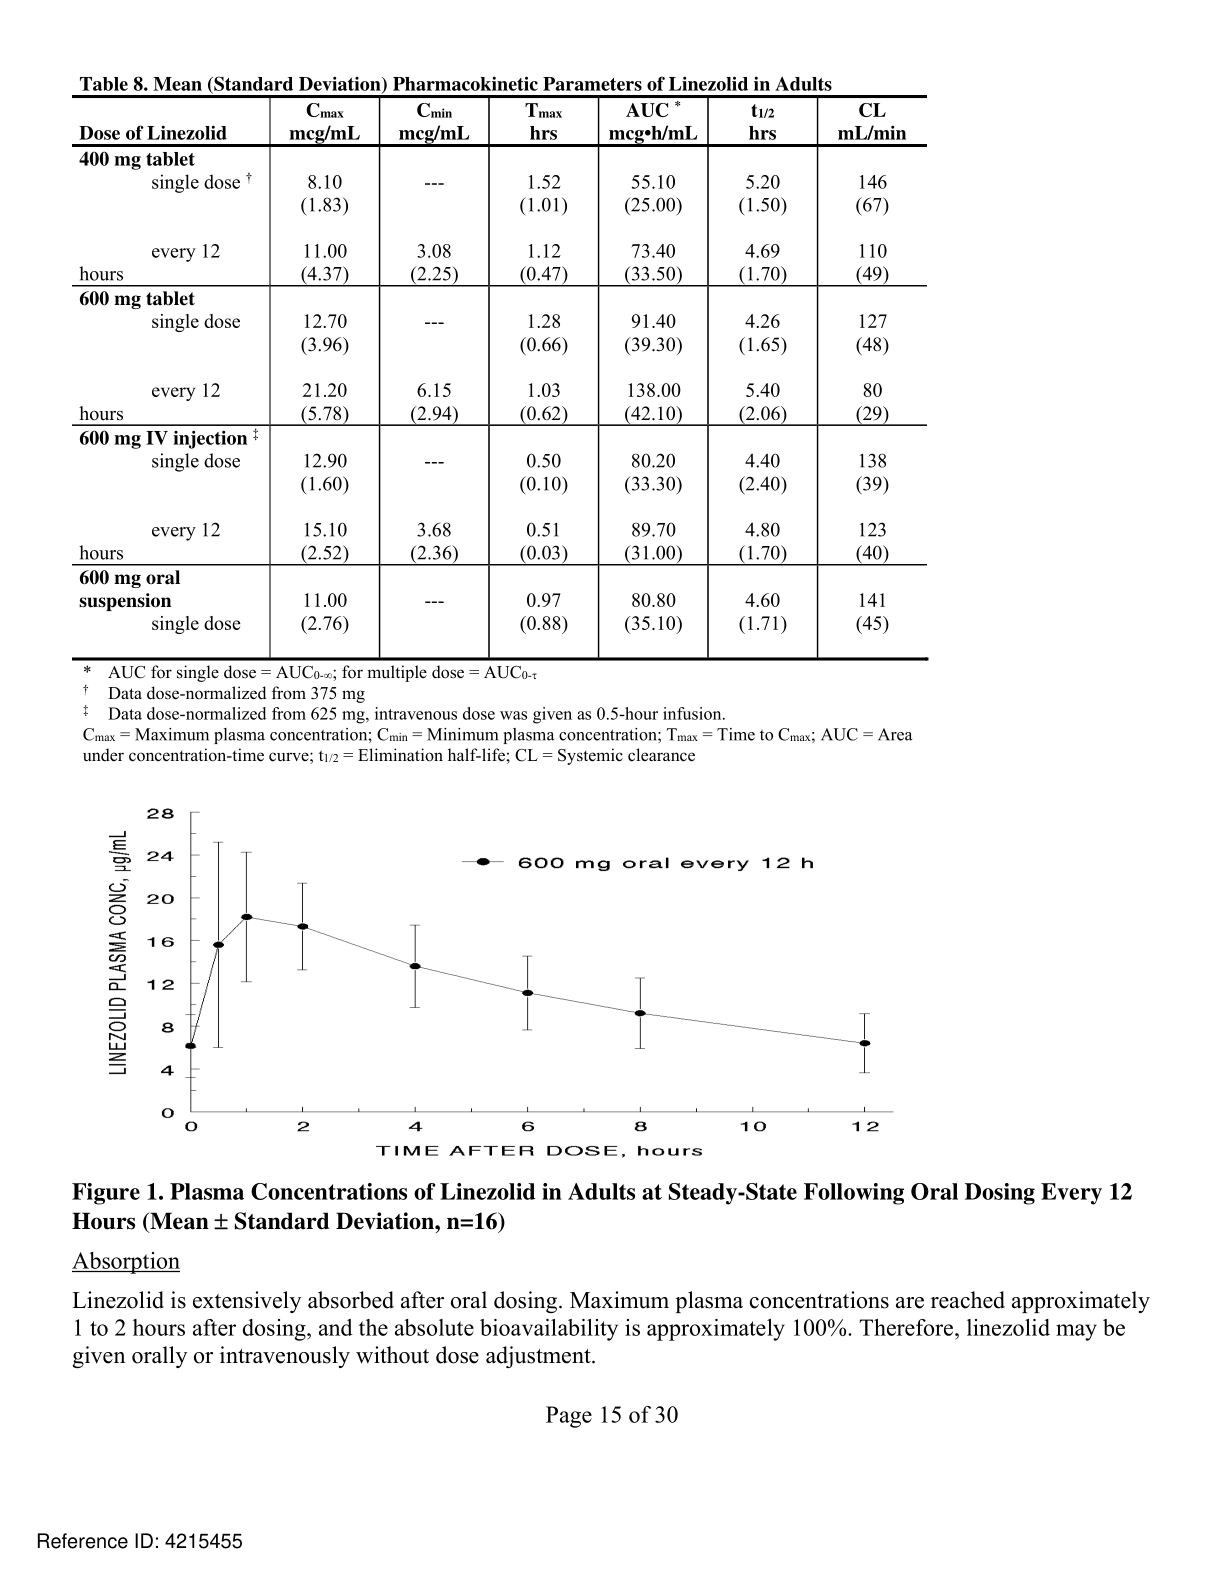partial_lined_merged_cells: (69, 93, 930, 662)
